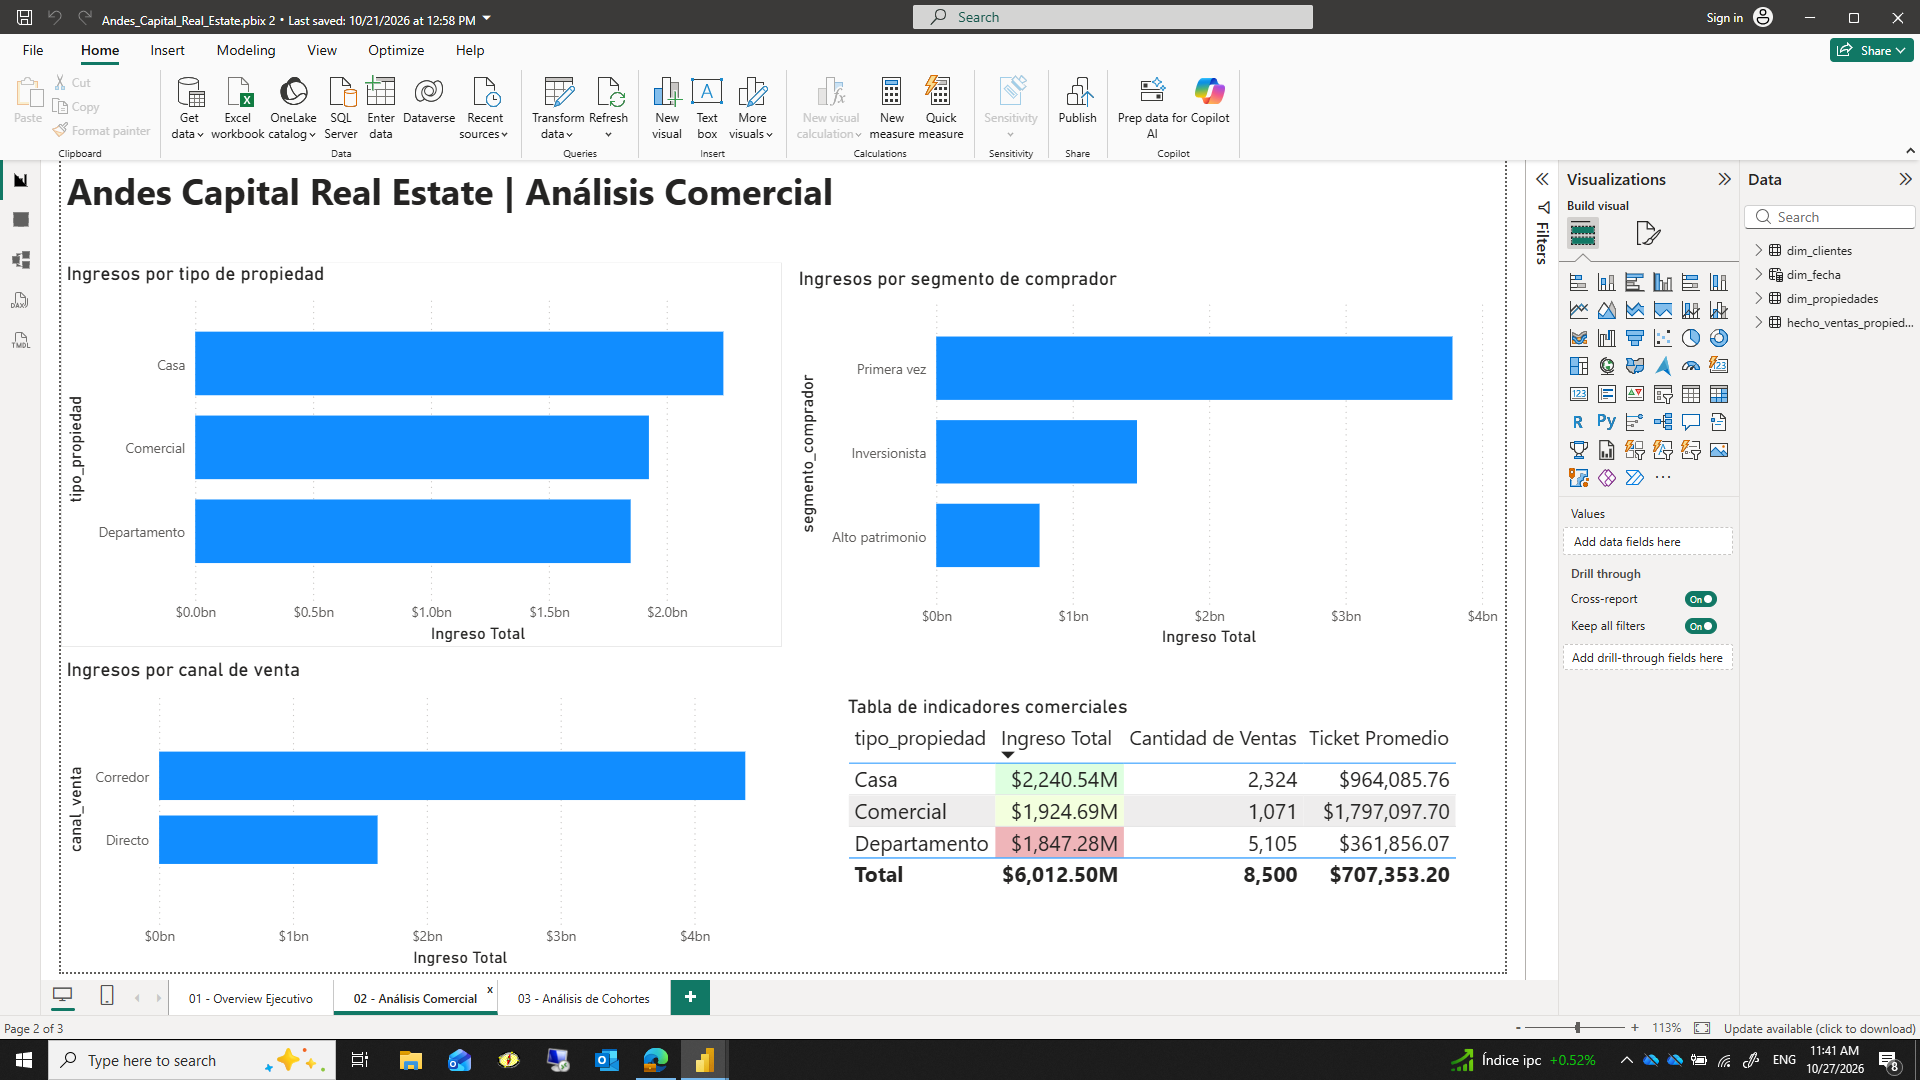

What the dashboard file says about the page in this screenshot:
{"tool":"powerbi","page":{"name":"02 - Análisis Comercial","canvas":[1280,720],"ordinal":1},"visuals":[{"type":"clusteredBarChart","title":"Ingresos por tipo de propiedad","fields":{"Category":["hecho_ventas_propiedades.tipo_propiedad"],"Y":["hecho_ventas_propiedades.Ingreso Total"]},"box":[0,90.2,639.7,341.8],"z":0},{"type":"clusteredBarChart","title":"Ingresos por canal de venta","fields":{"Category":["hecho_ventas_propiedades.canal_venta"],"Y":["hecho_ventas_propiedades.Ingreso Total"]},"box":[0,442,640,278],"z":1000},{"type":"clusteredBarChart","title":"Ingresos por segmento de comprador","fields":{"Category":["dim_clientes.segmento_comprador"],"Y":["hecho_ventas_propiedades.Ingreso Total"]},"box":[649.4,94.9,629.9,340.9],"z":2000},{"type":"tableEx","title":"Tabla de indicadores comerciales","fields":{"Values":["hecho_ventas_propiedades.tipo_propiedad","hecho_ventas_propiedades.Ingreso Total","hecho_ventas_propiedades.Cantidad de Ventas","hecho_ventas_propiedades.Ticket Promedio"]},"box":[692.5,474.6,565.2,245.9],"z":3000},{"type":"textbox","box":[0,0,720.5,90.6],"z":4000}]}

Visuals, with their boxes on the page's 1280x720 design canvas (x1, y1, x2, y2). These are canvas units, not pixel positions in the 1920x1080 screenshot, which may show the page scaled, cropped or inside an application window:
"Ingresos por tipo de propiedad" clusteredBarChart: rect(0, 90, 640, 432)
"Ingresos por canal de venta" clusteredBarChart: rect(0, 442, 640, 720)
"Ingresos por segmento de comprador" clusteredBarChart: rect(649, 95, 1279, 436)
"Tabla de indicadores comerciales" tableEx: rect(692, 475, 1258, 720)
textbox: rect(0, 0, 720, 91)
